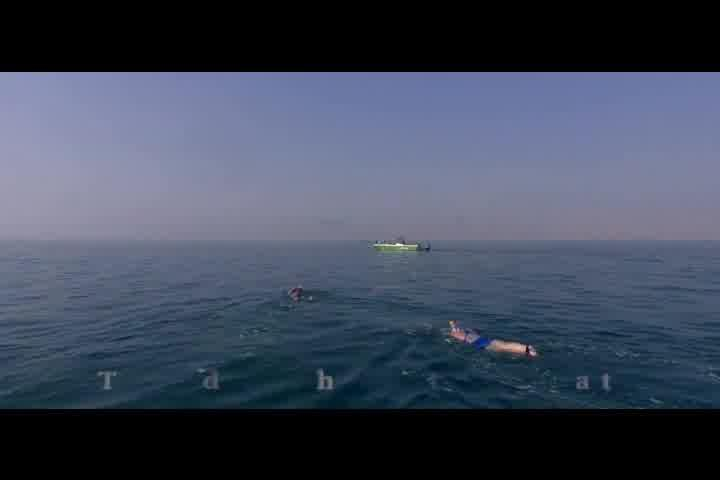human: (442, 314, 540, 360)
